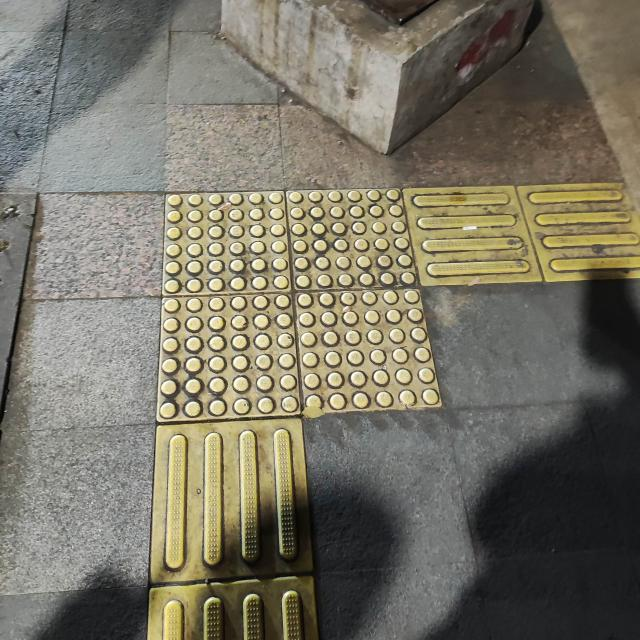kanan: (105, 159, 637, 489)
